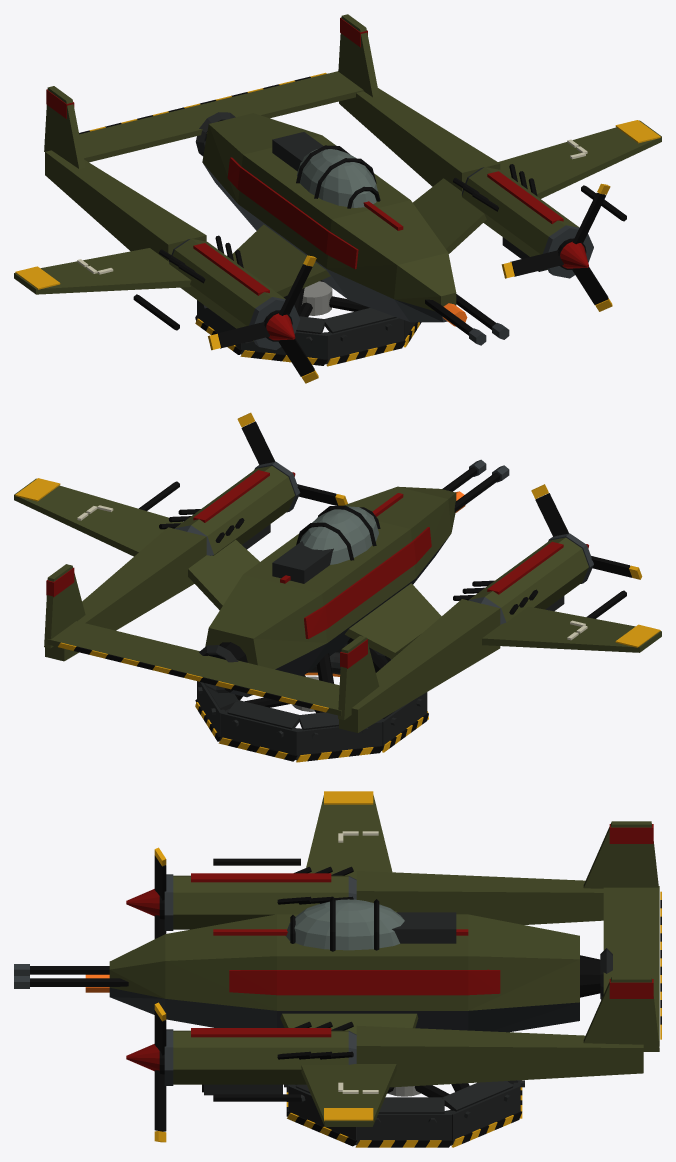
Rendered from fighter.obj.
The picture shows the model from 3 angles, top to bottom: view 1: azimuth 30°, elevation 25°; view 2: azimuth 150°, elevation 25°; view 3: azimuth 270°, elevation 25°; orthographic projection. The views are drawn at different scales.
Visible parts, largest first — view 1: fighter; view 2: fighter; view 3: fighter.
Part boxes in pixels (x1,y1,x2,y2): fighter: [14, 14, 661, 383]; fighter: [14, 412, 661, 762]; fighter: [14, 791, 661, 1147].
Size of the model in its own units: 45 by 12.59 by 37.33.
1 material, 1 textured.
